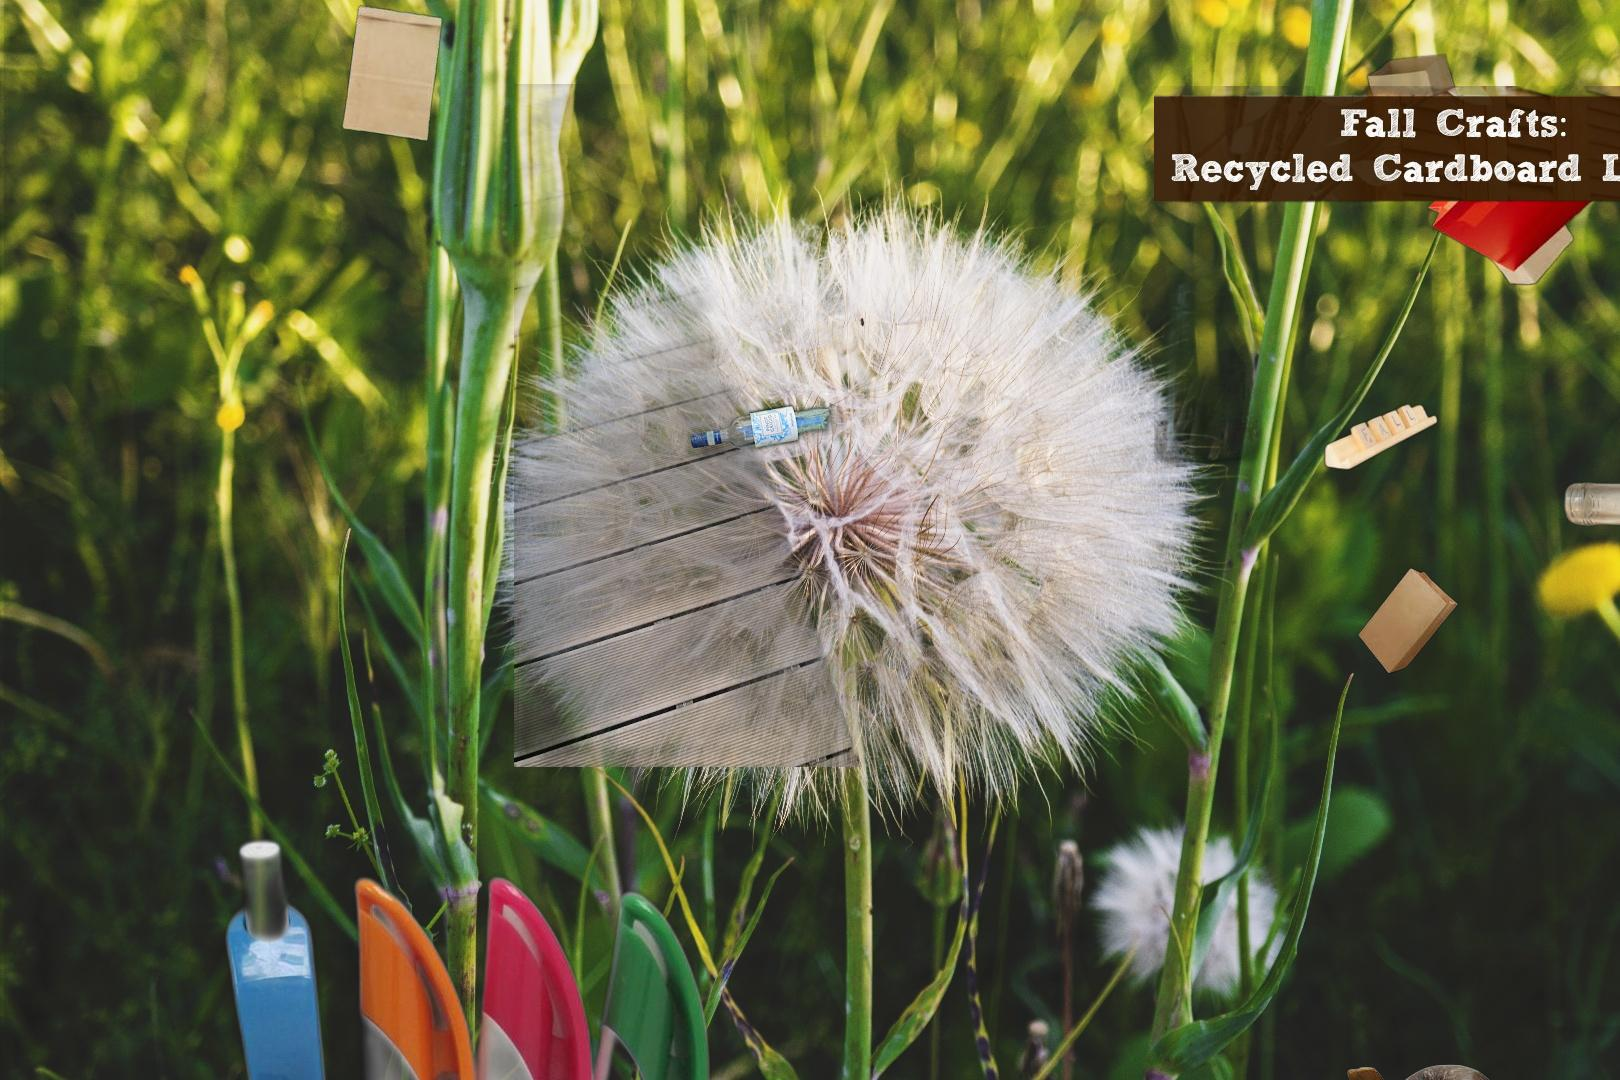biological: (1303, 1062, 1512, 1080)
glass: (513, 84, 865, 767), (1560, 440, 1620, 577)
paper-bag: (1364, 28, 1610, 288), (1255, 565, 1461, 844), (339, 0, 446, 143)
penholder: (218, 828, 770, 1080)
trashbox-cardboard: (1154, 86, 1620, 486)
